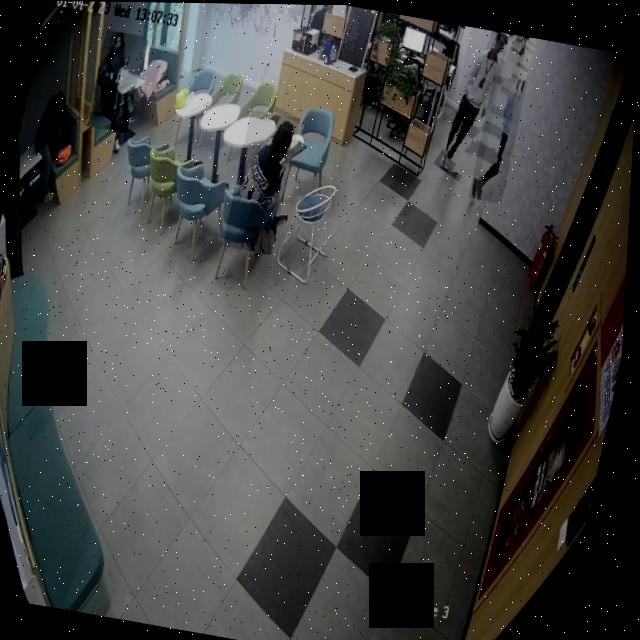person: (225, 109, 302, 254), (443, 26, 510, 175), (470, 74, 528, 203), (87, 30, 147, 134)
